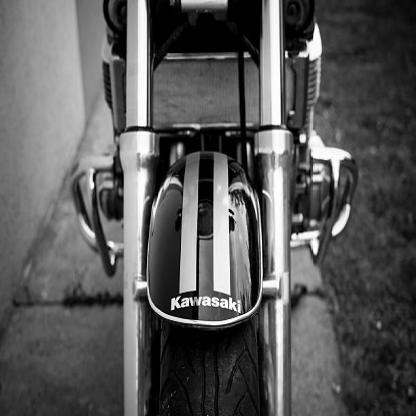Motorcycle: (67, 0, 367, 415)
